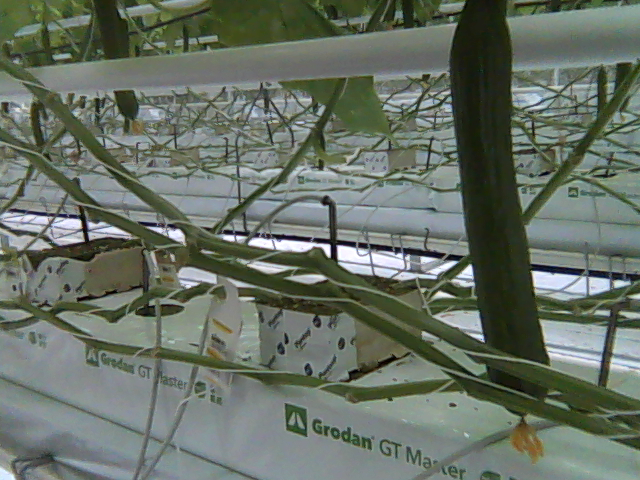concombre: (447, 2, 554, 463)
